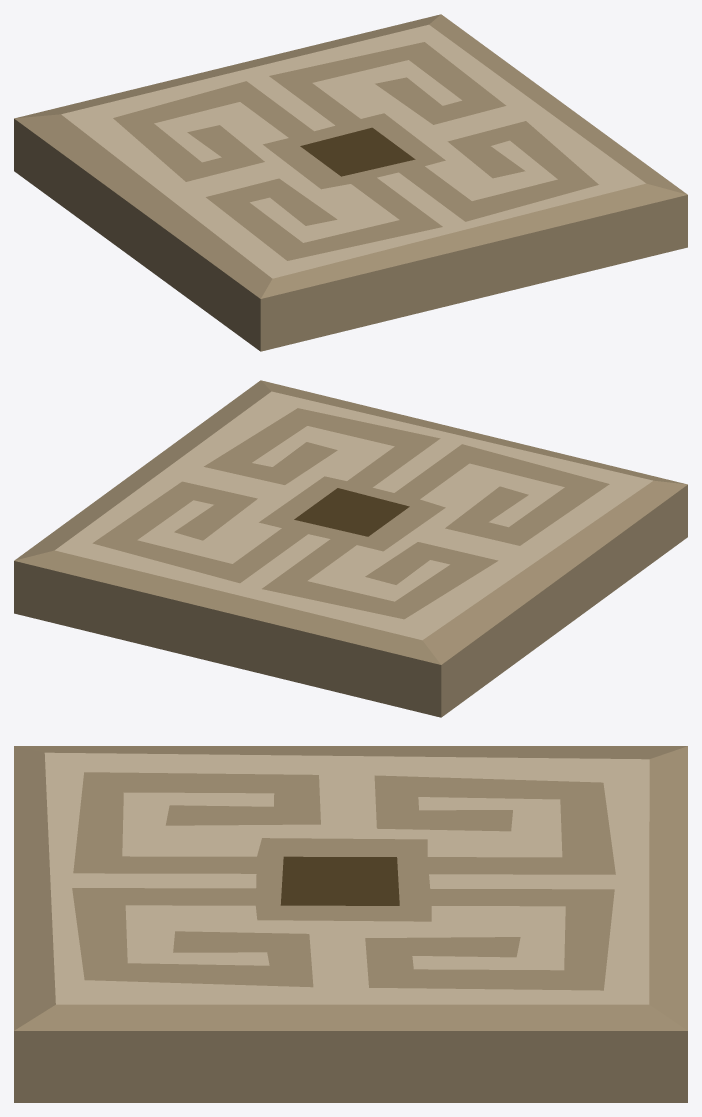
File: LightSandStoneFloorSmallAztecFloorPattern1.fbx
The picture shows the model from 3 angles, top to bottom: view 1: azimuth 30°, elevation 25°; view 2: azimuth 150°, elevation 25°; view 3: azimuth 270°, elevation 25°; orthographic projection. The views are drawn at different scales.
Parts seen in each view (by area): view 1: LightSandStoneFloorSmallAztecFloorPattern1; view 2: LightSandStoneFloorSmallAztecFloorPattern1; view 3: LightSandStoneFloorSmallAztecFloorPattern1.
Boxes of the visible parts, x1=… form: LightSandStoneFloorSmallAztecFloorPattern1: x1=14, y1=14, x2=687, y2=351; LightSandStoneFloorSmallAztecFloorPattern1: x1=14, y1=380, x2=687, y2=717; LightSandStoneFloorSmallAztecFloorPattern1: x1=14, y1=746, x2=687, y2=1102.
Size of the model in its own units: 800 by 106 by 800.
